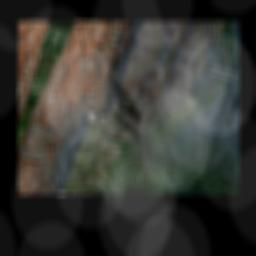Woodpecker: (71, 42, 136, 130)
